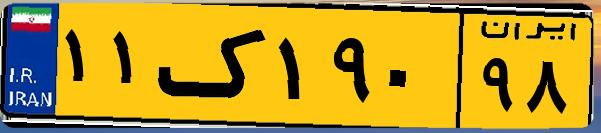0: (385, 28, 445, 110)
1: (270, 28, 330, 110), (57, 26, 110, 100), (110, 28, 158, 98)
8: (525, 38, 570, 115)
9: (330, 28, 385, 110), (475, 38, 525, 113)
ک: (158, 12, 270, 120)
